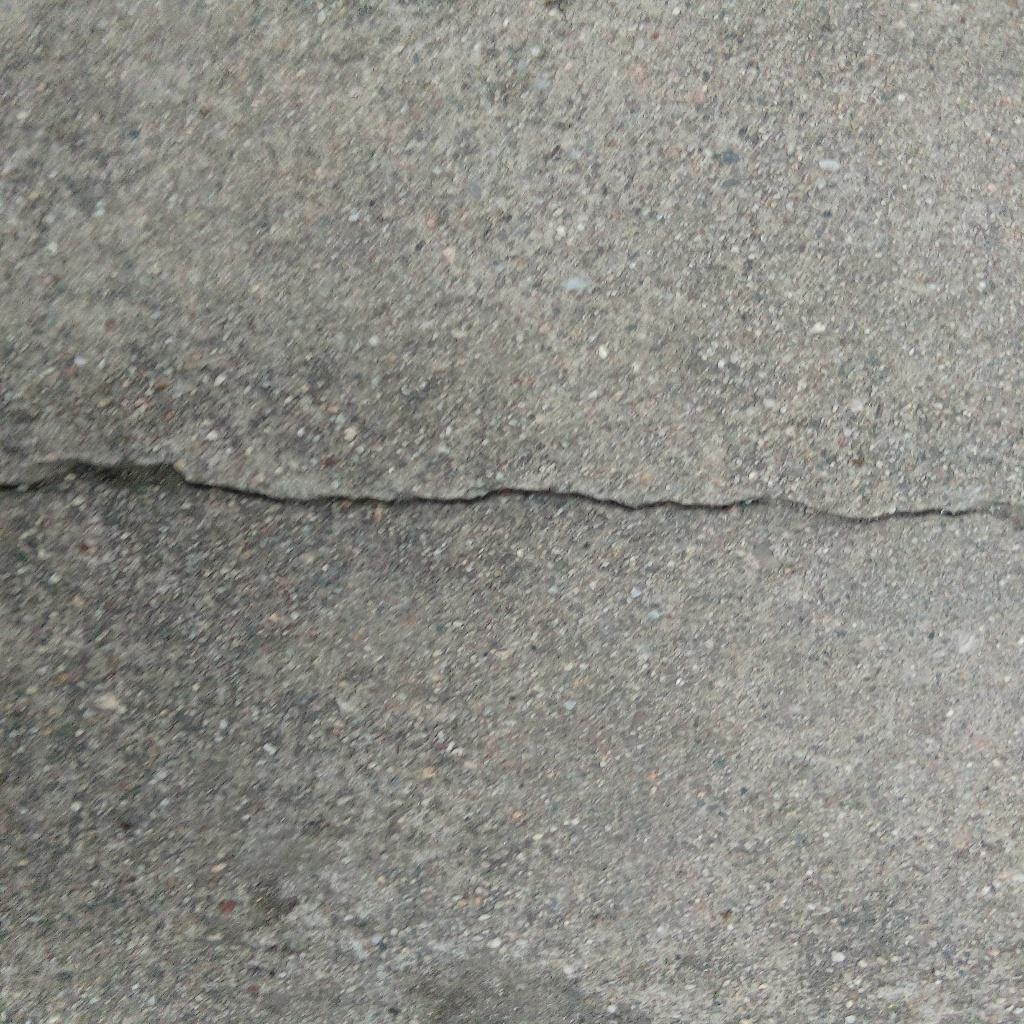Crack: (1, 458, 1024, 524)
